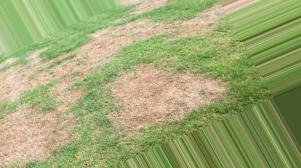patch: (119, 91, 165, 116), (124, 63, 167, 82), (14, 63, 49, 81), (159, 17, 191, 36), (32, 111, 58, 131), (60, 58, 99, 71), (173, 81, 193, 103), (120, 119, 144, 135), (92, 39, 117, 52), (6, 83, 23, 102), (11, 150, 35, 163), (7, 124, 24, 142), (118, 24, 151, 33), (34, 136, 57, 146)
